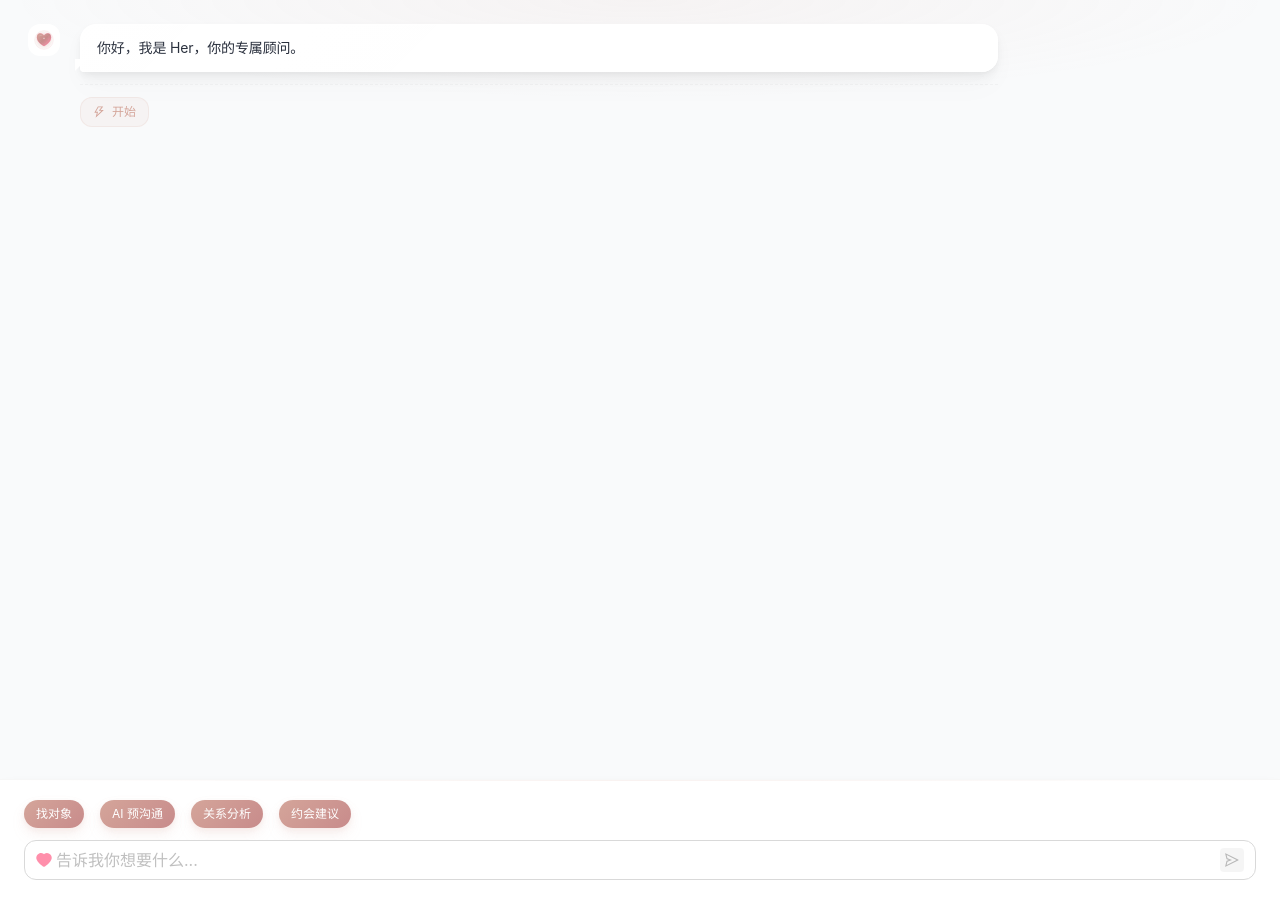
Test: ChatInterface Component › Message Handling › should respond to thanks
In the field with placeholder "告诉我你想要什么...": (636, 860) [56,848,1216,872], type "谢谢"
Then press Enter
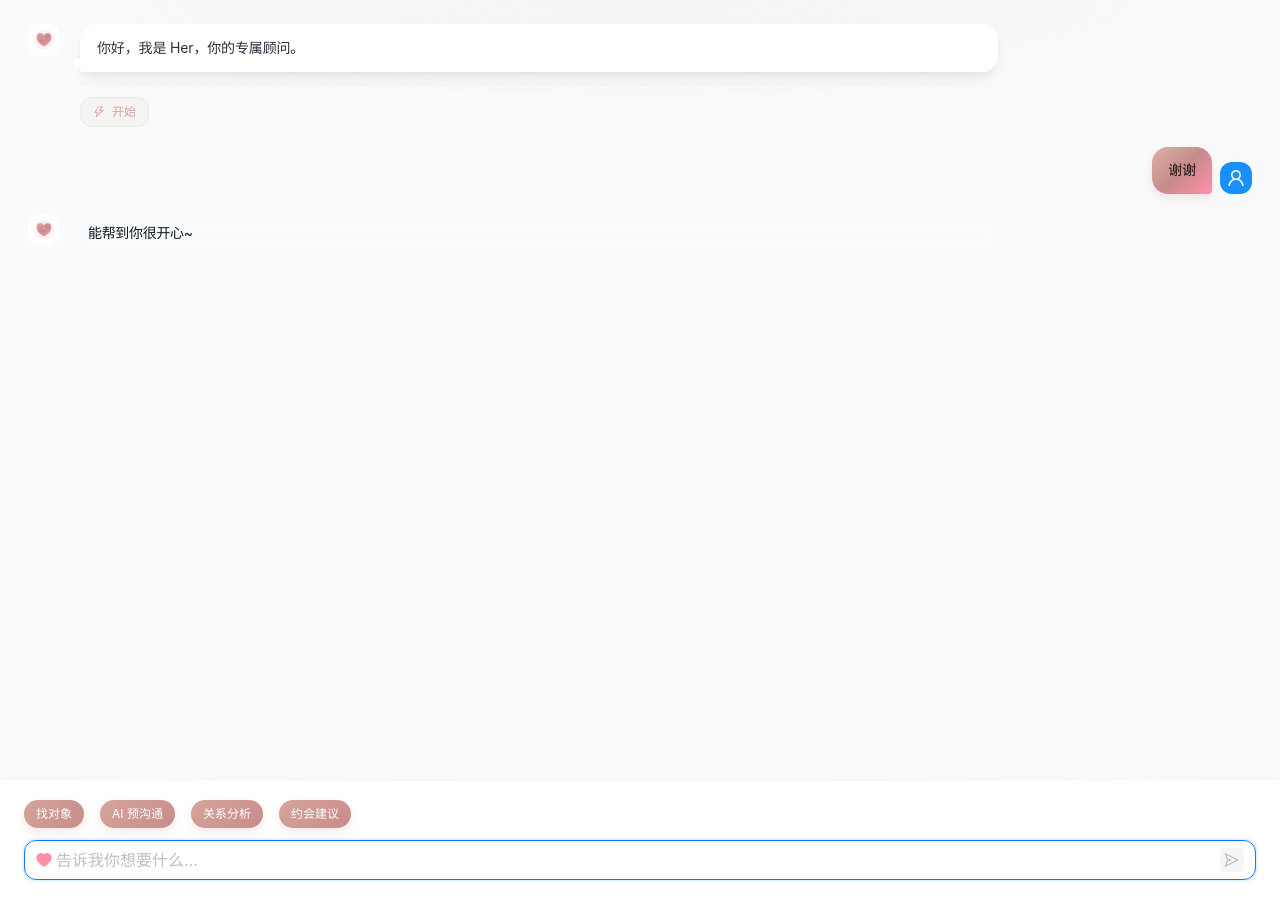
Expected: the text "能帮到你很开心~" is shown, [88,224,193,240]
